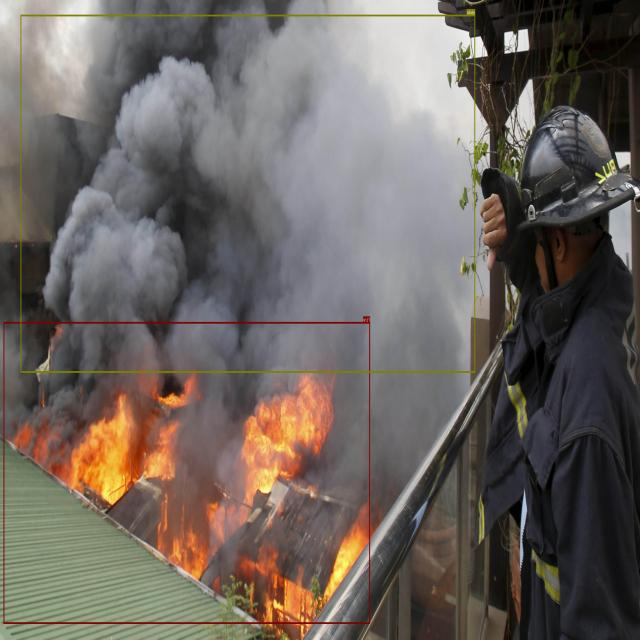fire: (4, 322, 370, 624)
smoke: (21, 15, 475, 372)
